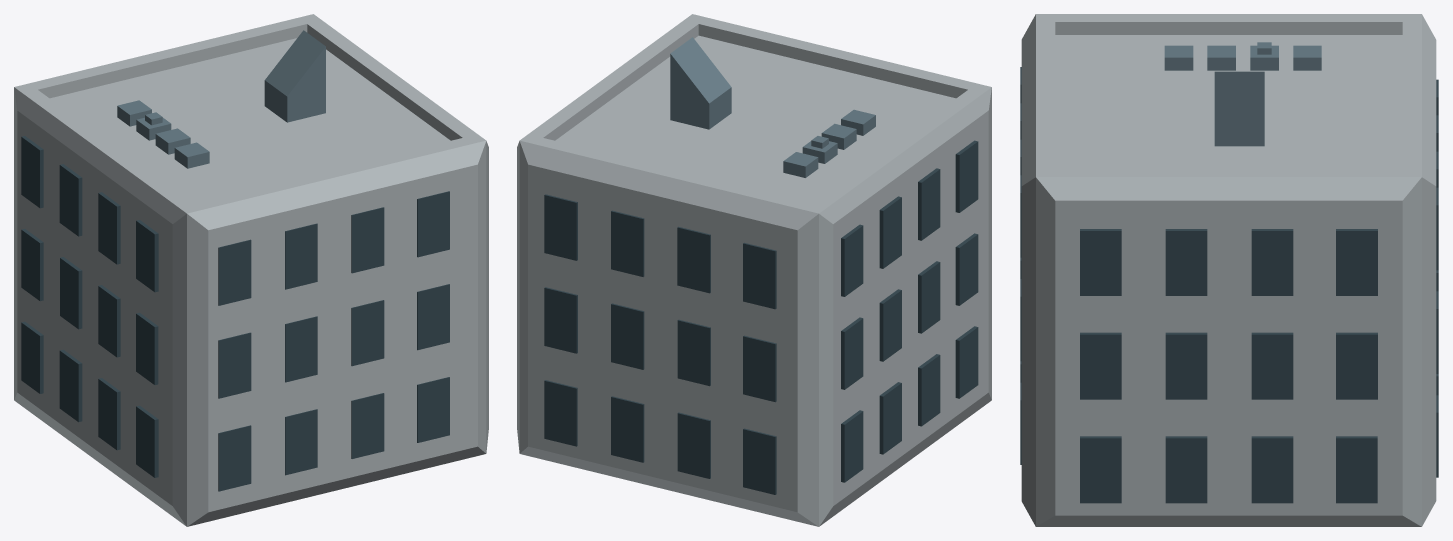
3 renders of one model, left to right at view 1: azimuth 30°, elevation 25°; view 2: azimuth 150°, elevation 25°; view 3: azimuth 270°, elevation 25°, orthographic. The views are drawn at different scales.
Visible parts, largest first — view 1: node_MeshObject557589376-PolyPaper17; view 2: node_MeshObject557589376-PolyPaper17; view 3: node_MeshObject557589376-PolyPaper17.
Boxes of the visible parts, x1,y1,x2,y2 form: node_MeshObject557589376-PolyPaper17: [14, 14, 488, 526]; node_MeshObject557589376-PolyPaper17: [517, 14, 991, 526]; node_MeshObject557589376-PolyPaper17: [1020, 14, 1438, 526].
Size of the model in its own units: 0.5834 by 0.6349 by 0.5851.
